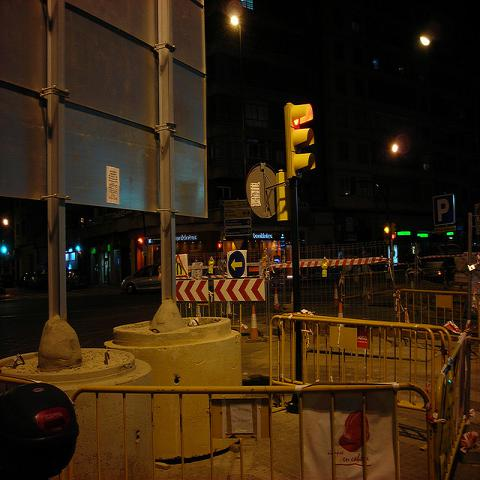car: (0, 375, 81, 473), (121, 265, 161, 294)
